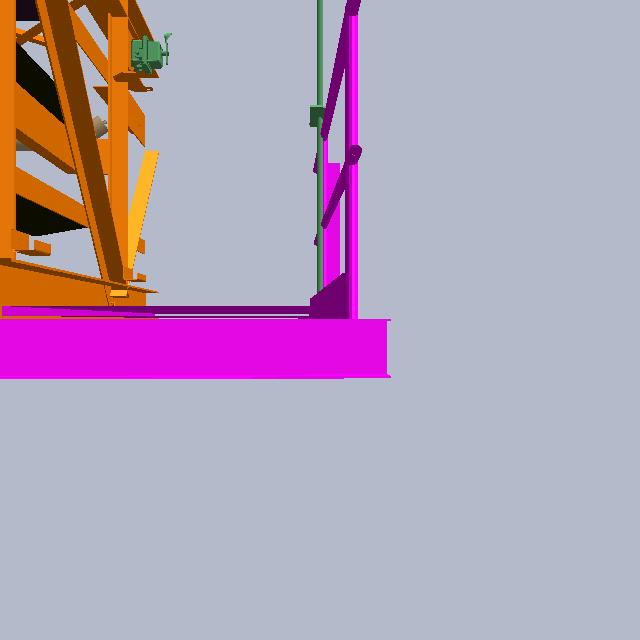Poste: (311, 1, 332, 326)
Soporte: (312, 155, 358, 338)
